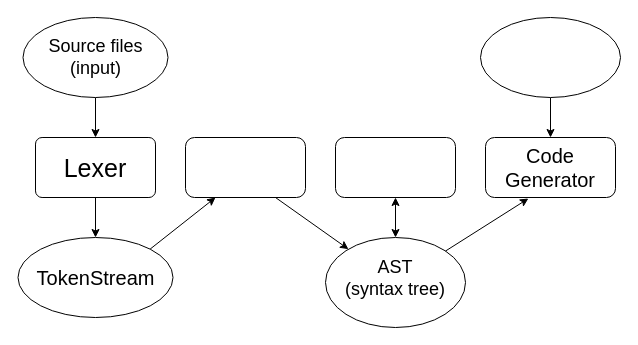
Image size: 638x345. Some labels were removed from this diagram. The shapes that lost their labels are listed below. From the top down, each one's centre as x and y in pixels, then its label:
(x=550, y=57): Bytecode (output)
(x=245, y=167): Parser
(x=395, y=167): Type Checker
